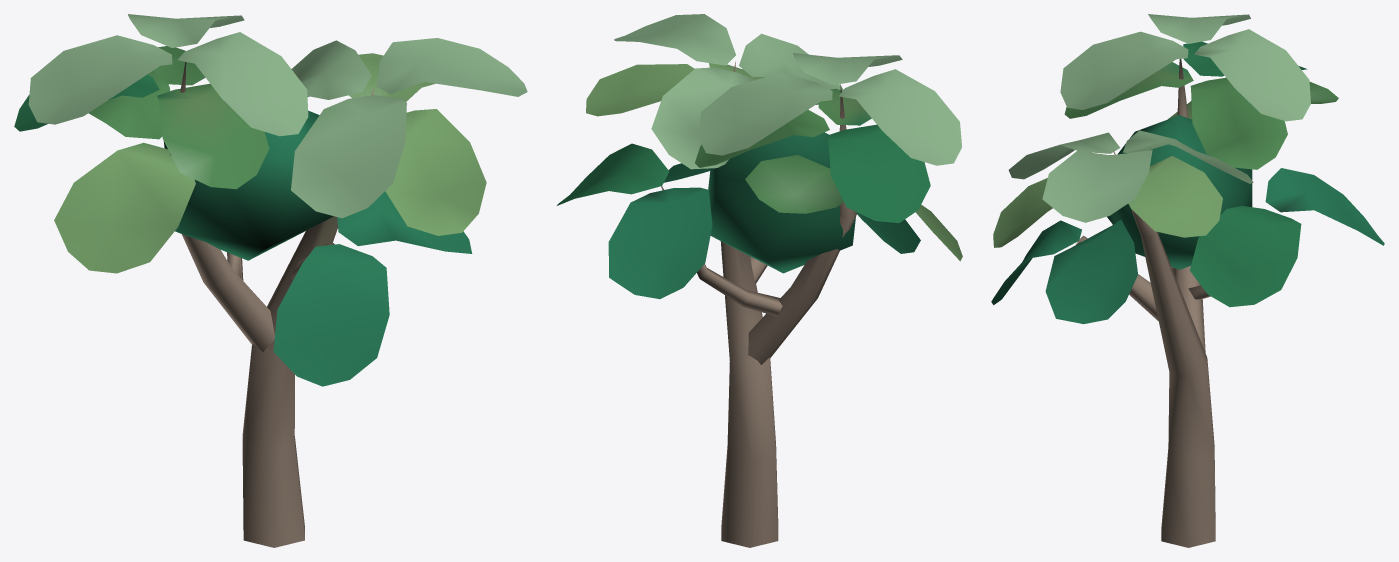
File: tree3.glb
3 views of the same model, side by side, from view 1: azimuth 30°, elevation 25°; view 2: azimuth 150°, elevation 25°; view 3: azimuth 270°, elevation 25° (orthographic). The views are drawn at different scales.
Visible parts, largest first — view 1: maple1-lod1; view 2: maple1-lod1; view 3: maple1-lod1.
Boxes of the visible parts, x1,y1,x2,y2 form: maple1-lod1: (14, 14, 527, 547); maple1-lod1: (557, 14, 962, 547); maple1-lod1: (991, 14, 1384, 547).
Bounding box in the file's own units: 9.76 × 11.46 × 8.93.
